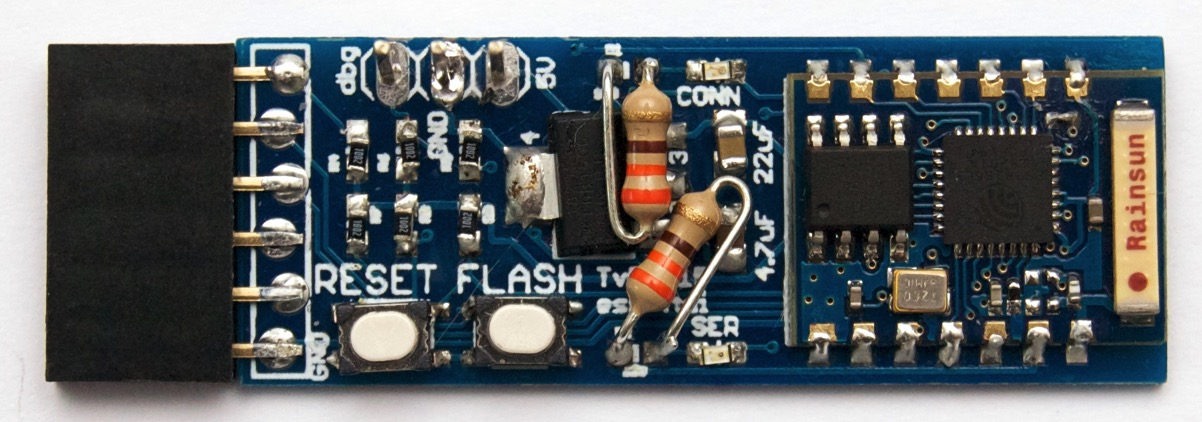Resistor: (615, 178, 732, 334), (613, 67, 678, 220)
